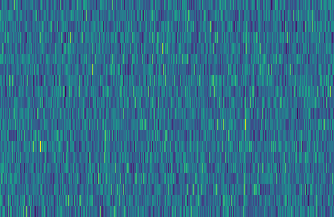signal: (240, 0, 252, 217)
